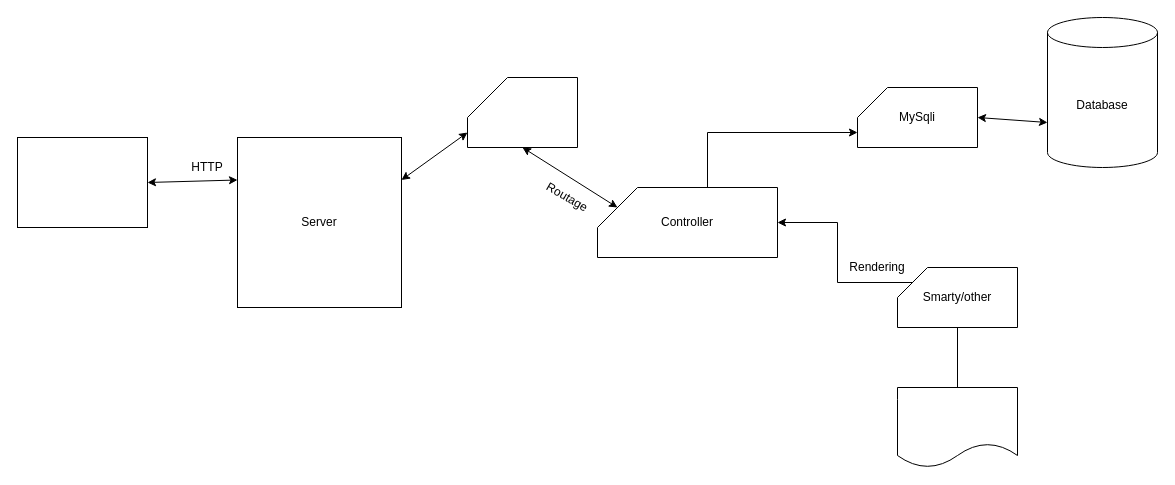
Image size: 1175x485. Some labels were removed from this diagram. Each missing label, with the centre of its shape:
Index.php: point 522,112
Templates: point 957,427
Web Browser: point 82,182
